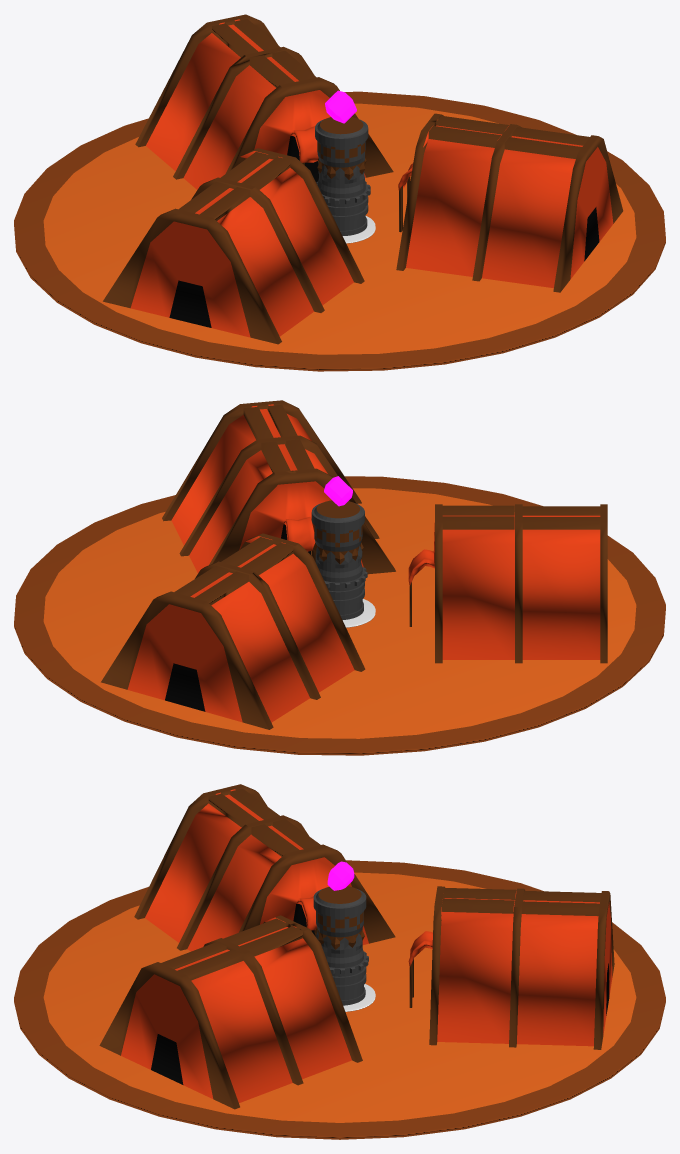
Rendered from PontoDeUpgradeDanaba.fbx.
The picture shows the model from 3 angles, top to bottom: view 1: azimuth 30°, elevation 25°; view 2: azimuth 150°, elevation 25°; view 3: azimuth 270°, elevation 25°; orthographic projection.
Visible parts, largest first — view 1: Cylinder.002; view 2: Cylinder.002; view 3: Cylinder.002.
Part boxes in pixels (left/top/right/bottom): Cylinder.002: left=14, top=14, right=665, bottom=371; Cylinder.002: left=14, top=400, right=665, bottom=755; Cylinder.002: left=14, top=784, right=665, bottom=1139.
Bounding box in the file's own units: 2167 × 581 × 2167.
